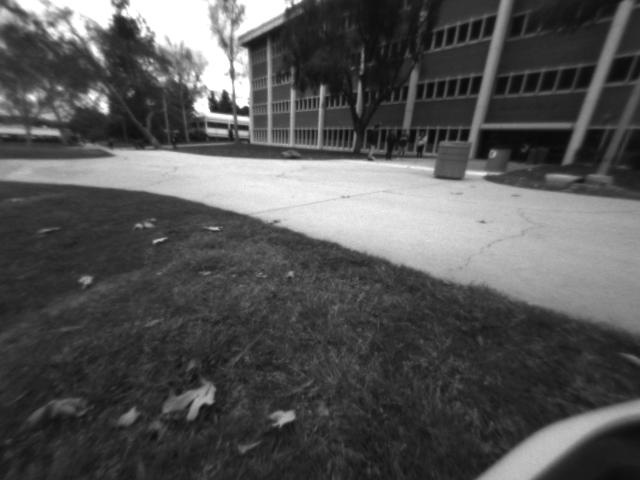trashcan: (434, 140, 472, 184), (486, 141, 510, 170)
